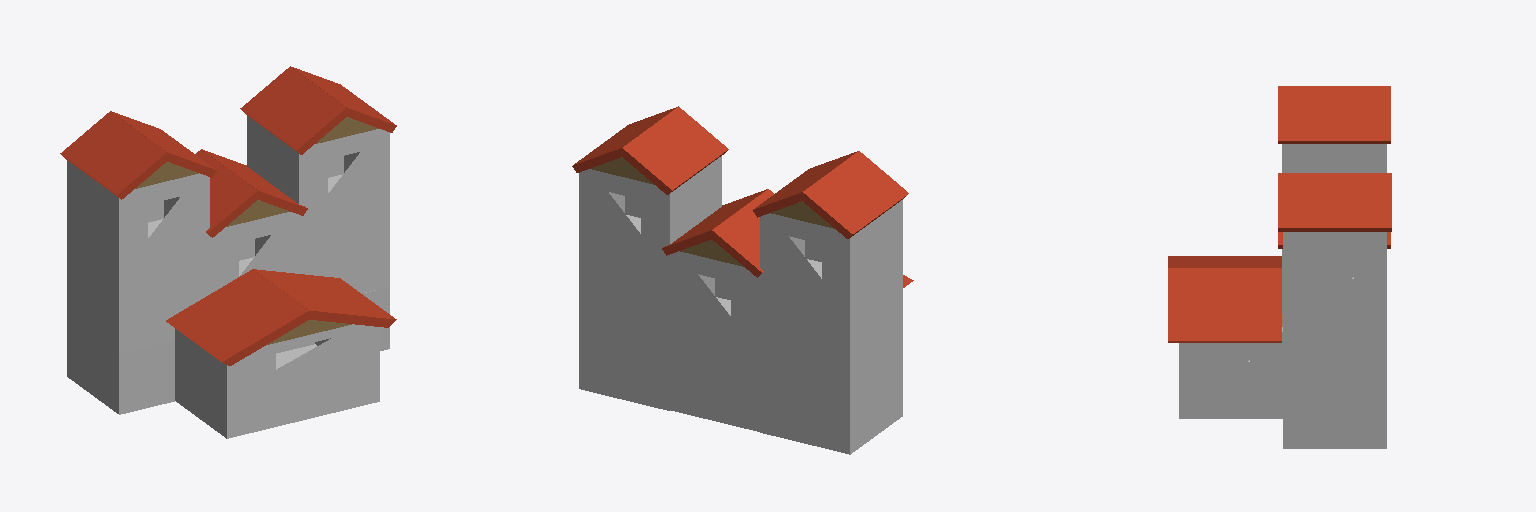
File: house4.obj
3 renders of one model, left to right at view 1: azimuth 30°, elevation 25°; view 2: azimuth 150°, elevation 25°; view 3: azimuth 270°, elevation 25°, orthographic.
Visible parts, largest first — view 1: body_Cube, body.002_Cube.006, body.003_Cube.008, house.002_roof.002, base_Cube.001, house.003_roof.003, house_roof, body.001_Cube.004, house.001_roof.001, roofpanel.002_Cube.007, roofpanel_Cube.005, roofpanel.003_Cube.009 (+2 smaller); view 2: body_Cube, body.003_Cube.008, body.001_Cube.004, base_Cube.001, house.003_roof.003, house_roof, base.001_Cube.010, house.001_roof.001, roofpanel.001_Cube.003, roofpanel.003_Cube.009, roofpanel_Cube.005; view 3: body.003_Cube.008, house.002_roof.002, body.002_Cube.006, house.003_roof.003, house_roof, base.001_Cube.010, body_Cube.
Boxes of the visible parts, x1=… form: body_Cube: x1=67, y1=160, x2=209, y2=353; body.002_Cube.006: x1=175, y1=324, x2=379, y2=438; body.003_Cube.008: x1=247, y1=116, x2=389, y2=293; house.002_roof.002: x1=166, y1=269, x2=396, y2=365; base_Cube.001: x1=67, y1=316, x2=174, y2=414; house.003_roof.003: x1=240, y1=66, x2=396, y2=154; house_roof: x1=60, y1=111, x2=216, y2=199; body.001_Cube.004: x1=210, y1=212, x2=300, y2=293; house.001_roof.001: x1=195, y1=149, x2=307, y2=237; roofpanel.002_Cube.007: x1=267, y1=320, x2=351, y2=344; roofpanel_Cube.005: x1=135, y1=162, x2=198, y2=188; roofpanel.003_Cube.009: x1=316, y1=117, x2=378, y2=143; body_Cube: x1=760, y1=200, x2=902, y2=392; body.003_Cube.008: x1=579, y1=156, x2=721, y2=349; body.001_Cube.004: x1=670, y1=251, x2=759, y2=431; base_Cube.001: x1=760, y1=356, x2=902, y2=454; house.003_roof.003: x1=572, y1=106, x2=728, y2=194; house_roof: x1=753, y1=151, x2=908, y2=238; base.001_Cube.010: x1=579, y1=328, x2=670, y2=410; house.001_roof.001: x1=662, y1=189, x2=773, y2=277; roofpanel.001_Cube.003: x1=680, y1=240, x2=743, y2=266; roofpanel.003_Cube.009: x1=591, y1=157, x2=653, y2=184; roofpanel_Cube.005: x1=771, y1=201, x2=834, y2=228; body.003_Cube.008: x1=1283, y1=232, x2=1386, y2=386; house.002_roof.002: x1=1168, y1=256, x2=1281, y2=342; body.002_Cube.006: x1=1179, y1=327, x2=1282, y2=418; house.003_roof.003: x1=1278, y1=173, x2=1391, y2=231; house_roof: x1=1278, y1=86, x2=1390, y2=143; base.001_Cube.010: x1=1283, y1=387, x2=1386, y2=448; body_Cube: x1=1282, y1=144, x2=1386, y2=172.
Size of the model in its own units: 1.39 by 1.2 by 0.9543.